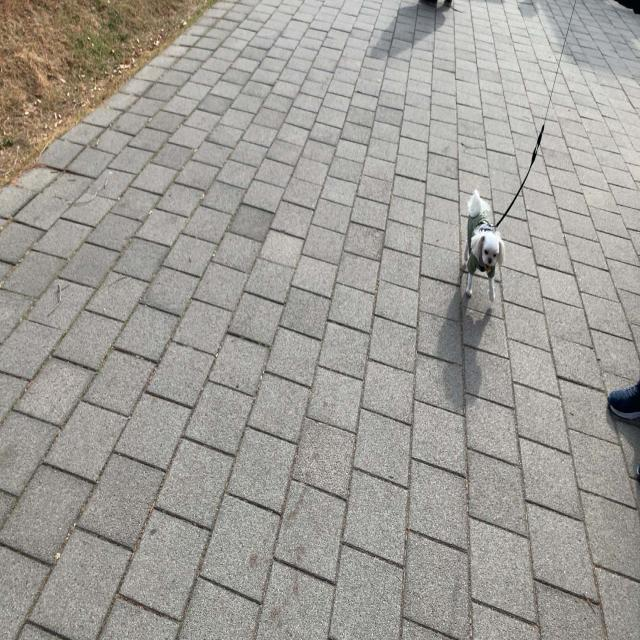Dog: (462, 189, 506, 303)
